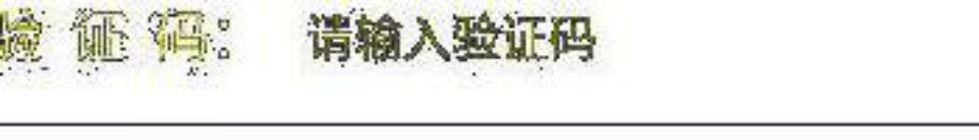EditText: (1, 1, 978, 139)
